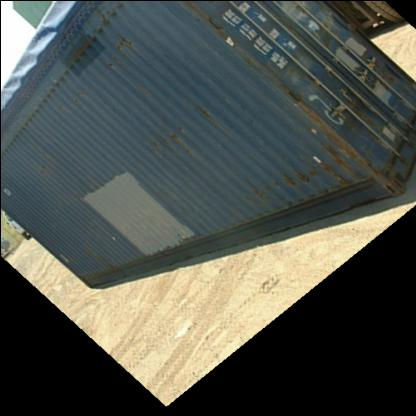Damage: (278, 138, 357, 202), (145, 118, 189, 156), (146, 226, 198, 258), (99, 31, 132, 74), (194, 93, 223, 130), (94, 246, 122, 272), (244, 175, 268, 205)
